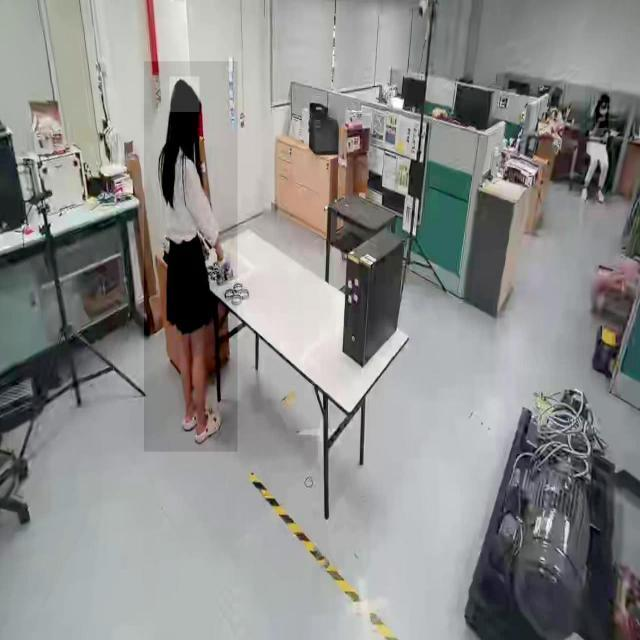gloves: (214, 234, 234, 278)
